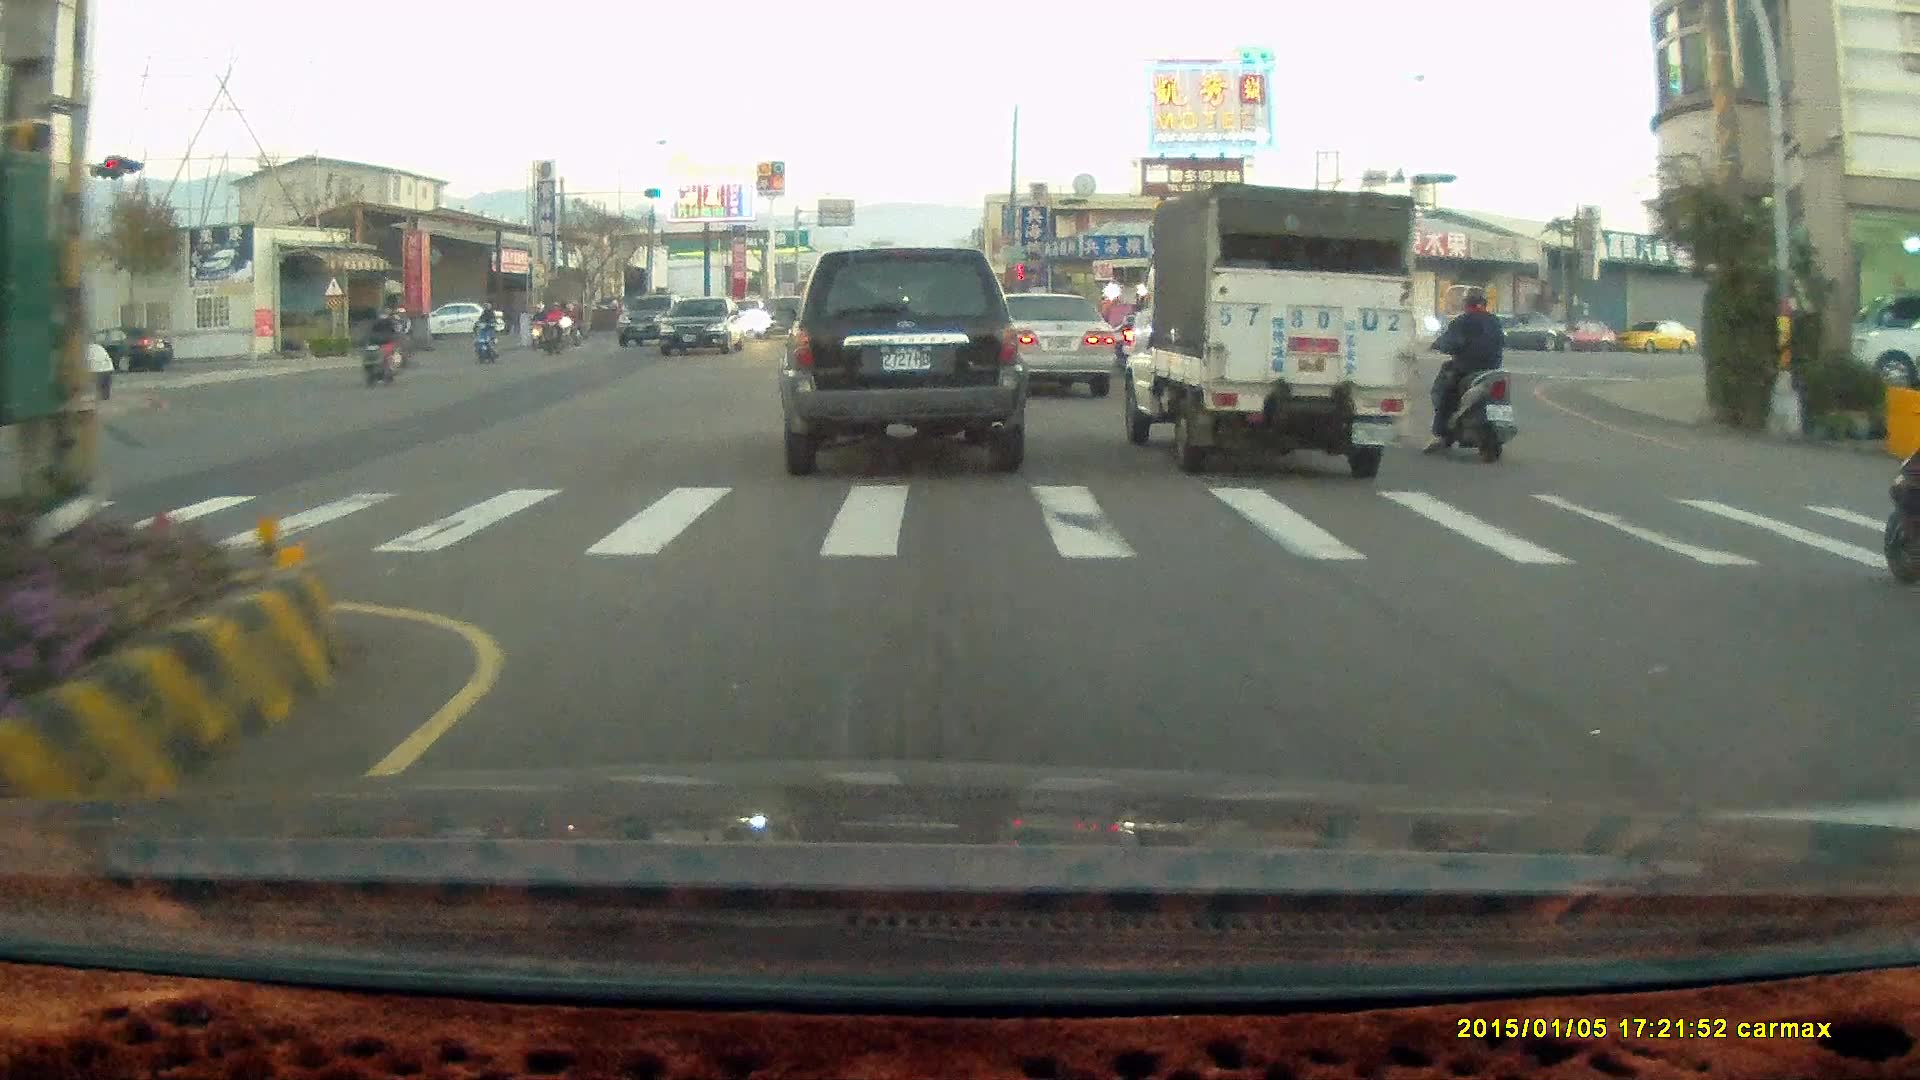rider: (1419, 280, 1518, 466), (1876, 443, 1920, 582), (362, 310, 401, 385), (471, 300, 500, 362), (538, 297, 567, 354), (527, 299, 556, 350)
vehicle: (1120, 179, 1415, 474), (775, 246, 1027, 476), (976, 290, 1121, 399), (976, 289, 1114, 394), (22, 314, 117, 402), (1848, 310, 1920, 390), (656, 295, 748, 358), (1464, 311, 1571, 355), (427, 301, 505, 340), (1553, 319, 1619, 353)
